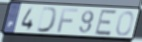4: (20, 7, 35, 32)
9: (78, 10, 95, 34)
D: (35, 6, 59, 34)
E: (94, 8, 119, 37)
F: (56, 8, 80, 34)
O: (115, 10, 135, 37)
